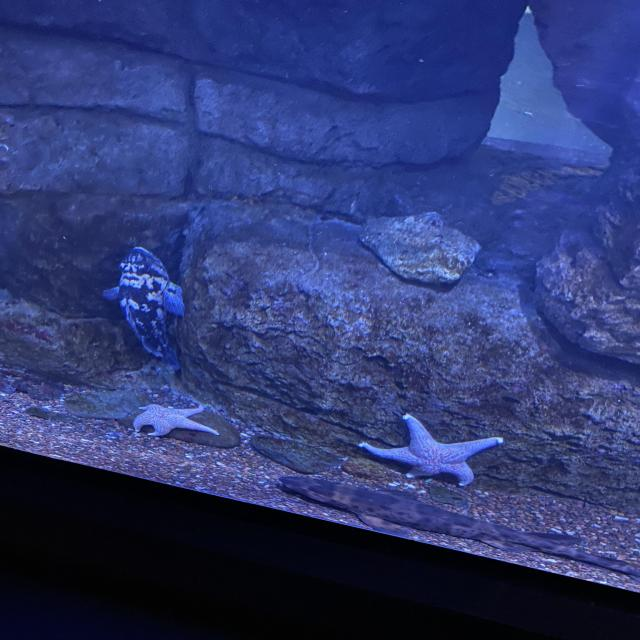fish: (105, 247, 184, 360)
shark: (276, 476, 640, 578)
starfish: (359, 415, 502, 487), (134, 404, 218, 438)
